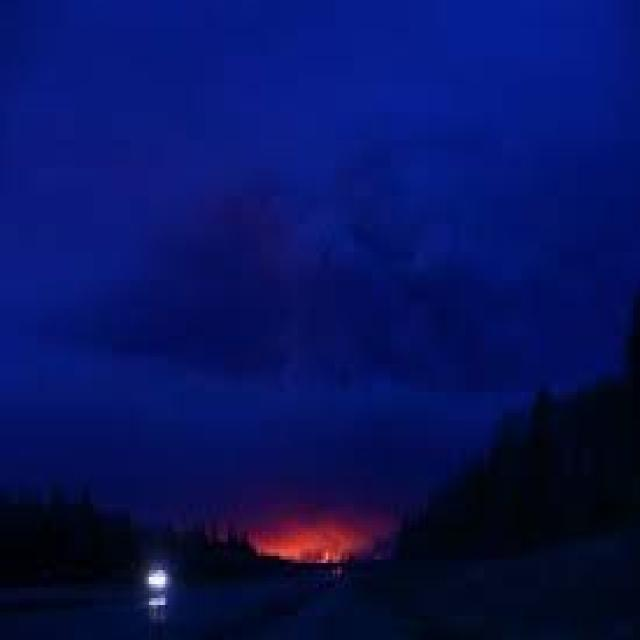Fire: (244, 514, 403, 584)
Smoke: (88, 146, 592, 436)
